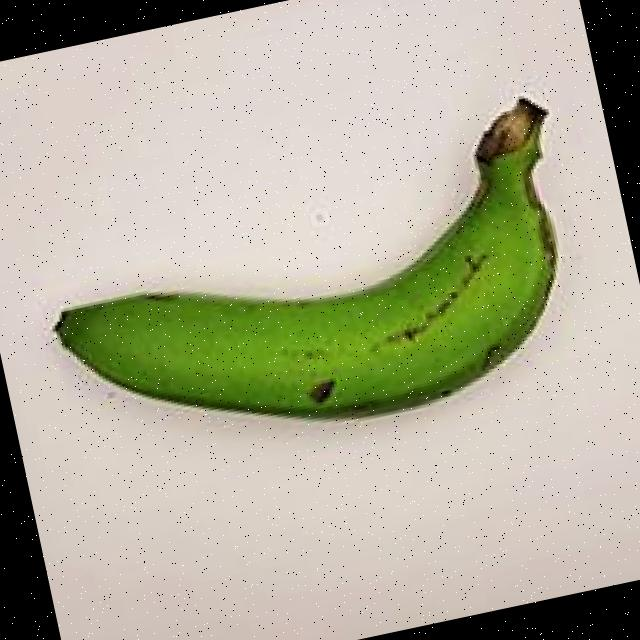Raw: (4, 54, 634, 510)
